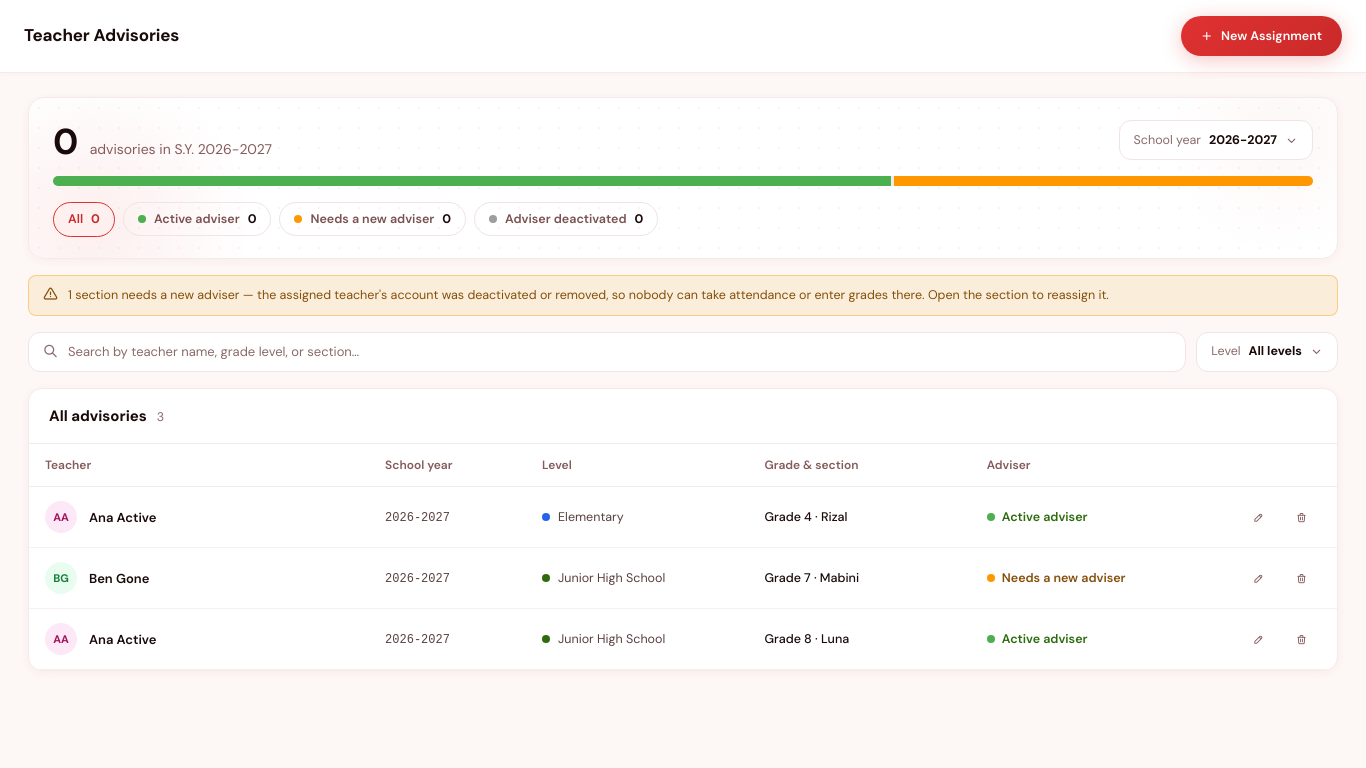
Test: Teacher advisories — band › lists the sections that need an adviser from the legend
Expected: the text "Grade 4 · Rizal" is shown, x1=764 y1=509 x2=847 y2=525
Click the button with aria-label "Needs a new adviser 1".
click(373, 219)  # box x1=280 y1=202 x2=466 y2=236
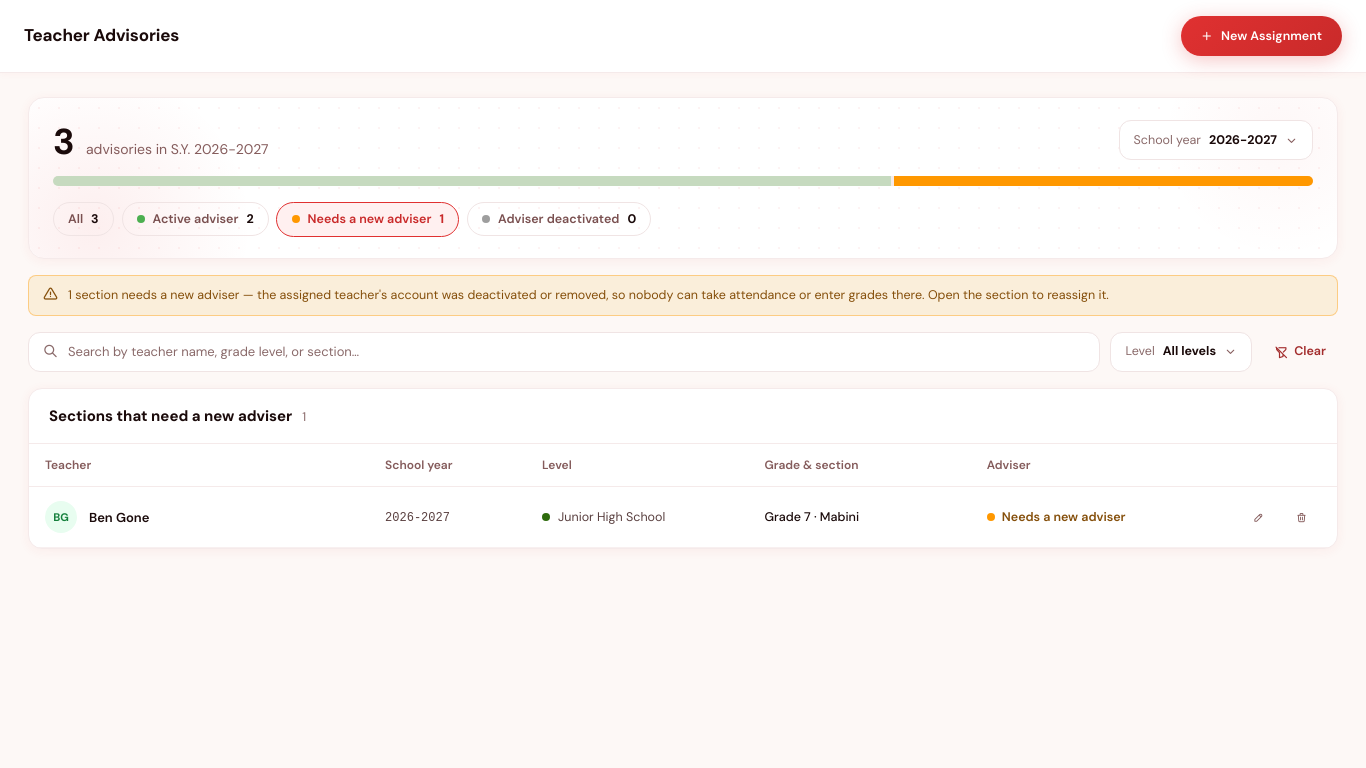
Expected: the text "Grade 7 · Mabini" is shown, x1=764 y1=509 x2=859 y2=525
Now the button "Grade 4 · Rizal" is gone
Now the heading "Sections that need a new adviser" is shown, box x1=49 y1=405 x2=292 y2=427
